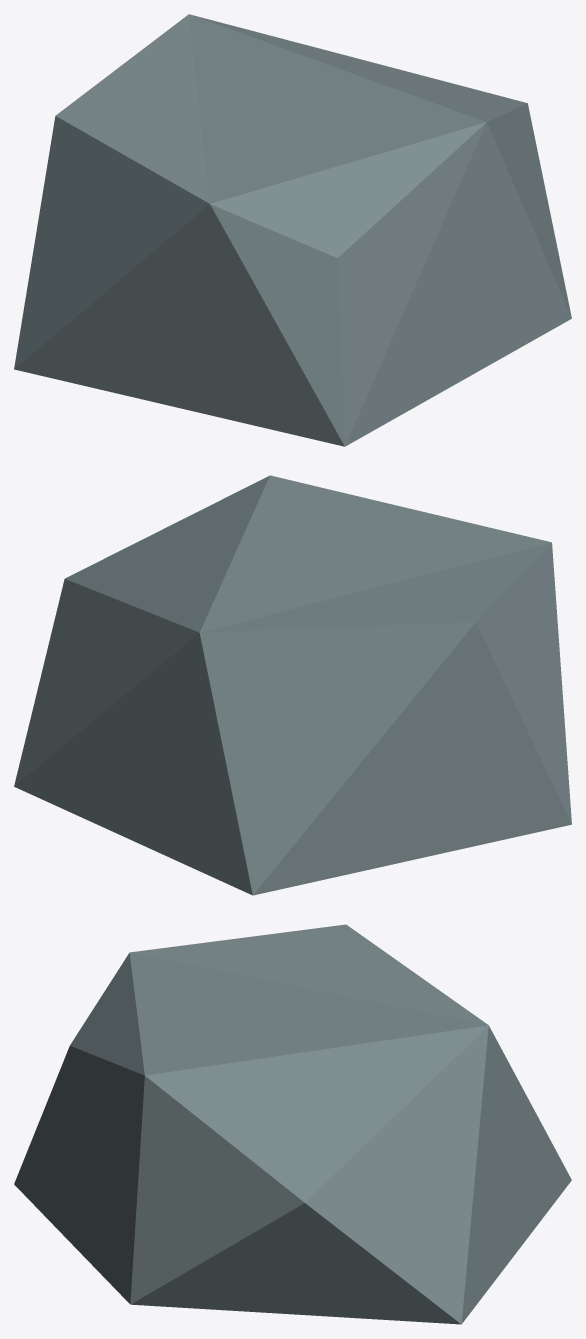
Rendered from Rock_02.fbx.
3 renders of one model, top to bottom at view 1: azimuth 30°, elevation 25°; view 2: azimuth 150°, elevation 25°; view 3: azimuth 270°, elevation 25°, orthographic. The views are drawn at different scales.
Visible parts, largest first — view 1: Rock_02; view 2: Rock_02; view 3: Rock_02.
Part boxes in pixels (left/top/right/bottom): Rock_02: left=14, top=14, right=571, bottom=446; Rock_02: left=14, top=475, right=571, bottom=895; Rock_02: left=14, top=924, right=571, bottom=1324.
Size of the model in its own units: 65.06 by 31.64 by 65.15.
